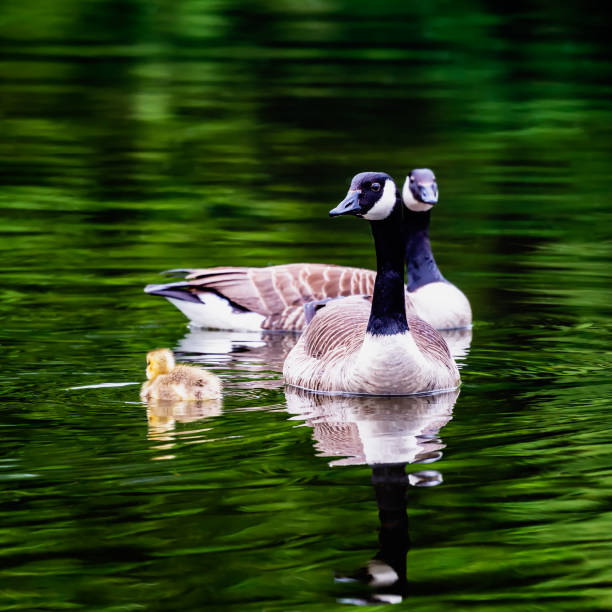goose: (139, 165, 476, 332), (278, 164, 463, 397)
